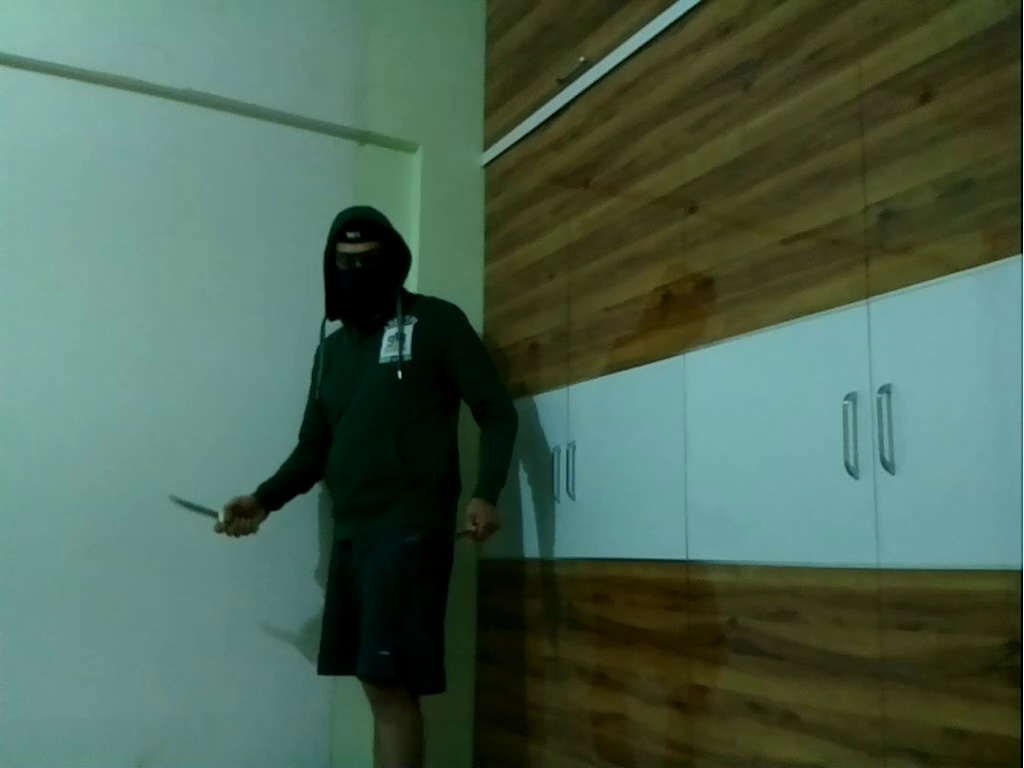knife: (158, 489, 244, 529)
